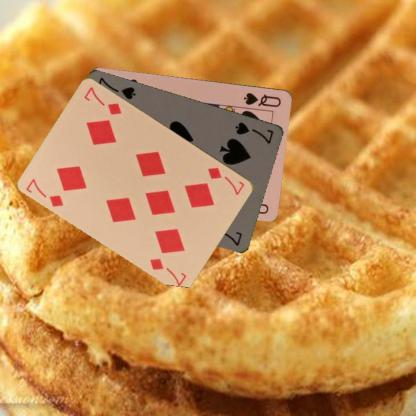7d: (23, 176, 66, 209), (205, 164, 246, 197)
7s: (232, 119, 276, 145)
Qs: (242, 90, 282, 108)
